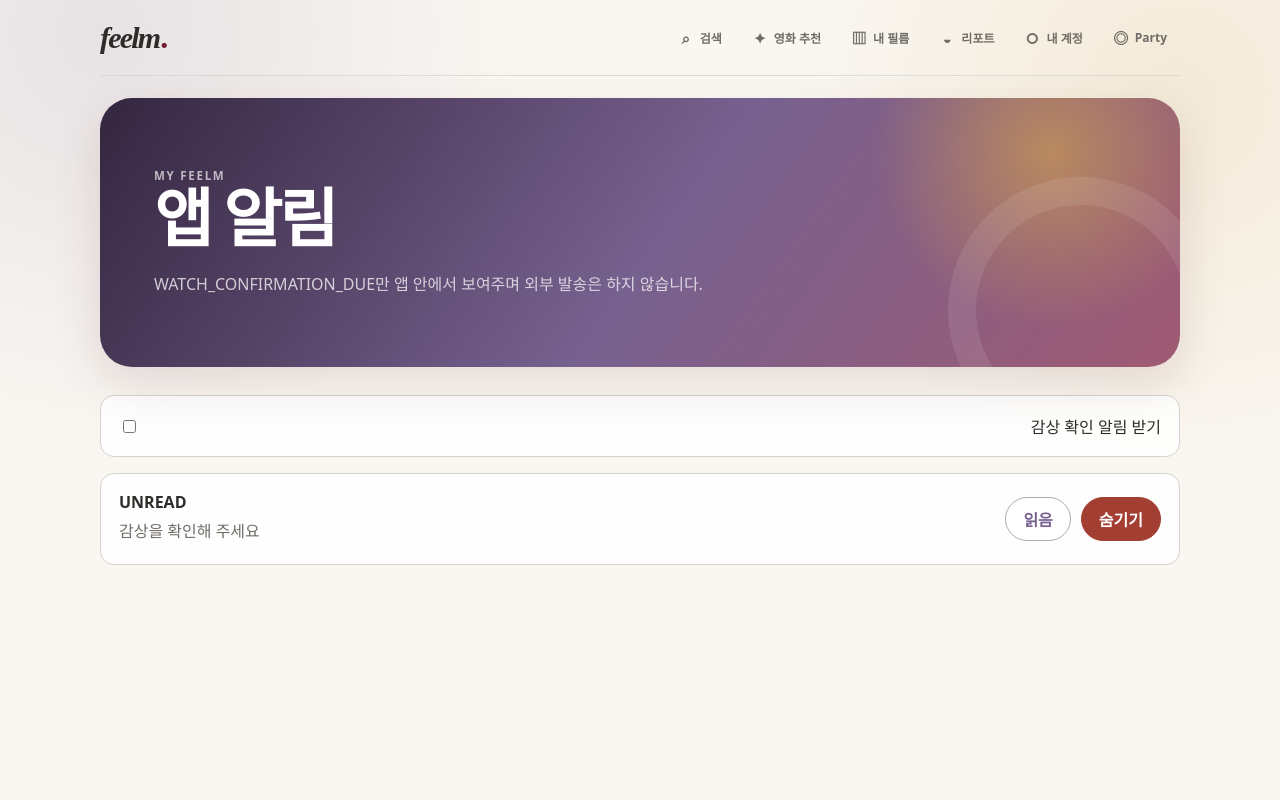
Test: C5 local report/profile vertical › providerless notification opt-in과 read/dismiss를 처리한다
The image size is (1280, 800).
Click the checkbox labelled "감상 확인 알림 받기": (130, 426) [123,420,136,433]
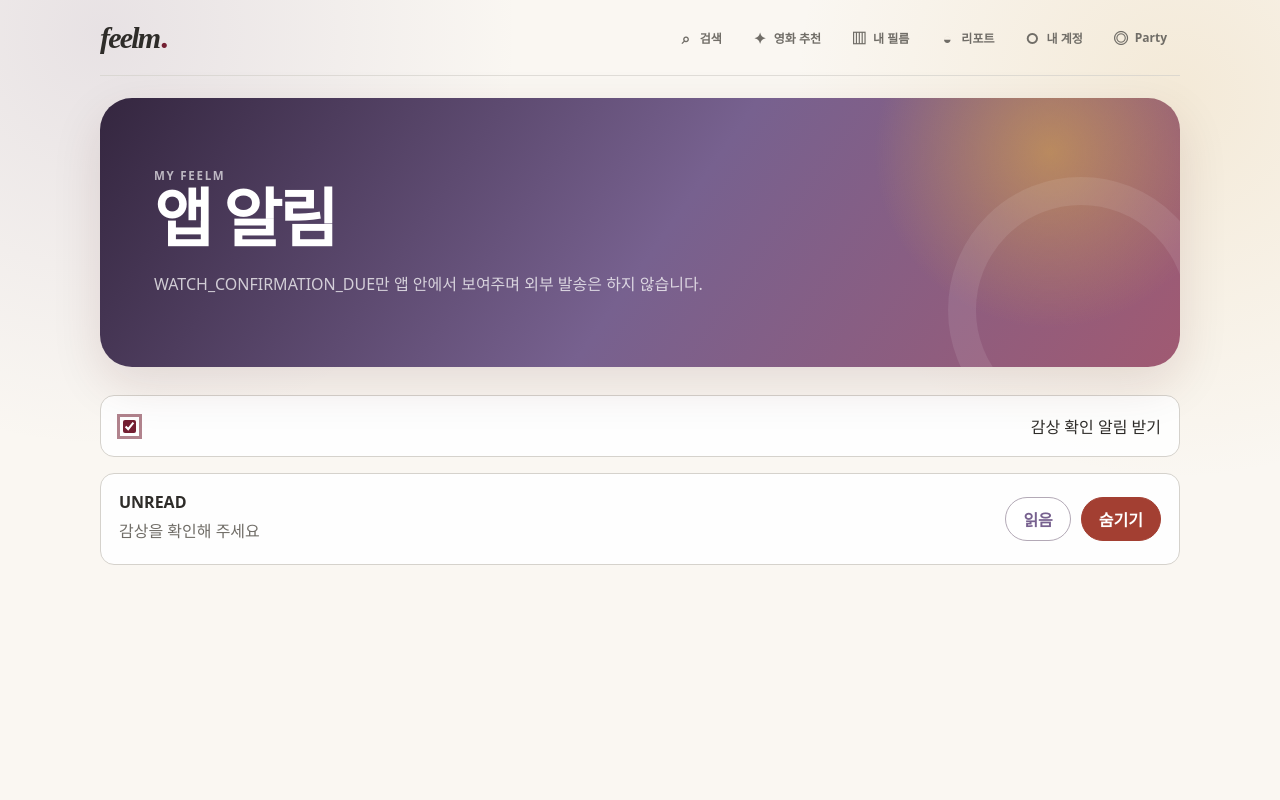
Click the button "읽음": (1038, 519) [1005,497,1071,541]
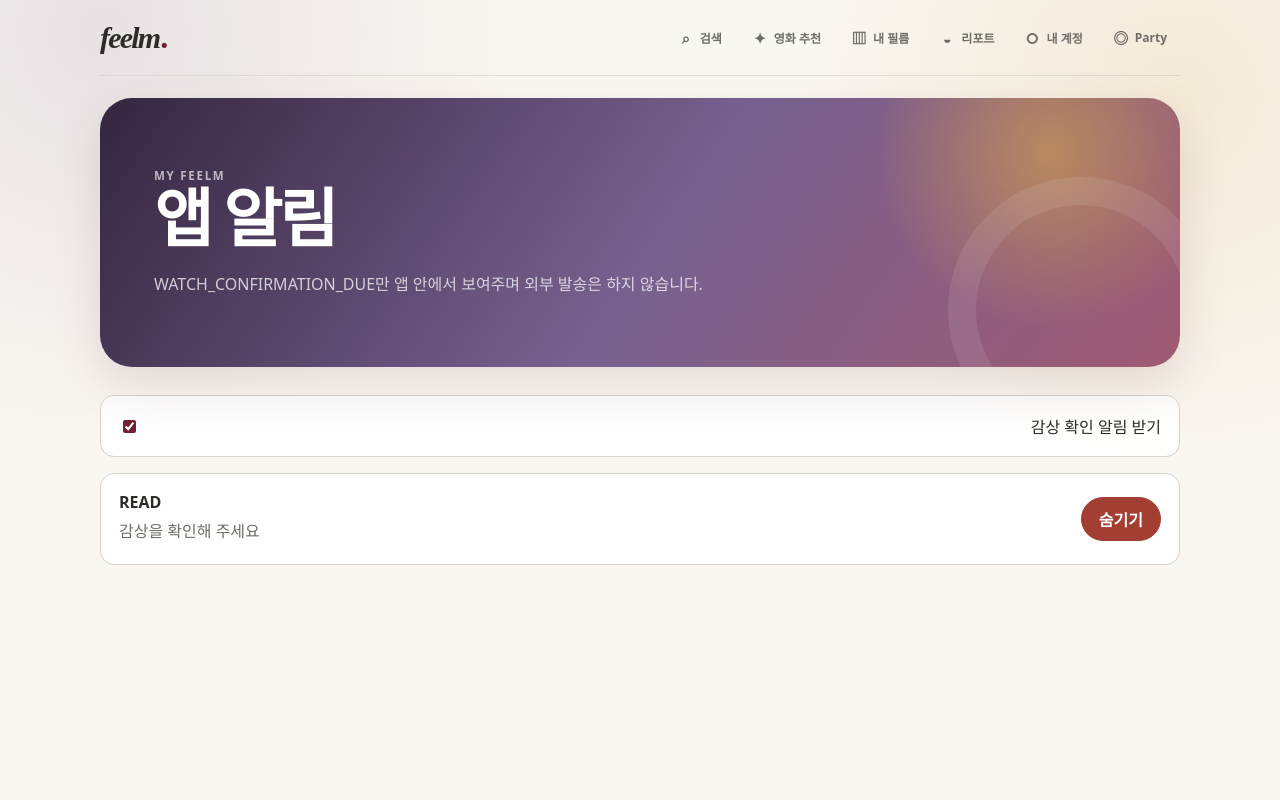
Check: the text "READ" is shown, box [119,491,161,513]
Click the button "숨기기": (1121, 519) [1081,497,1161,541]
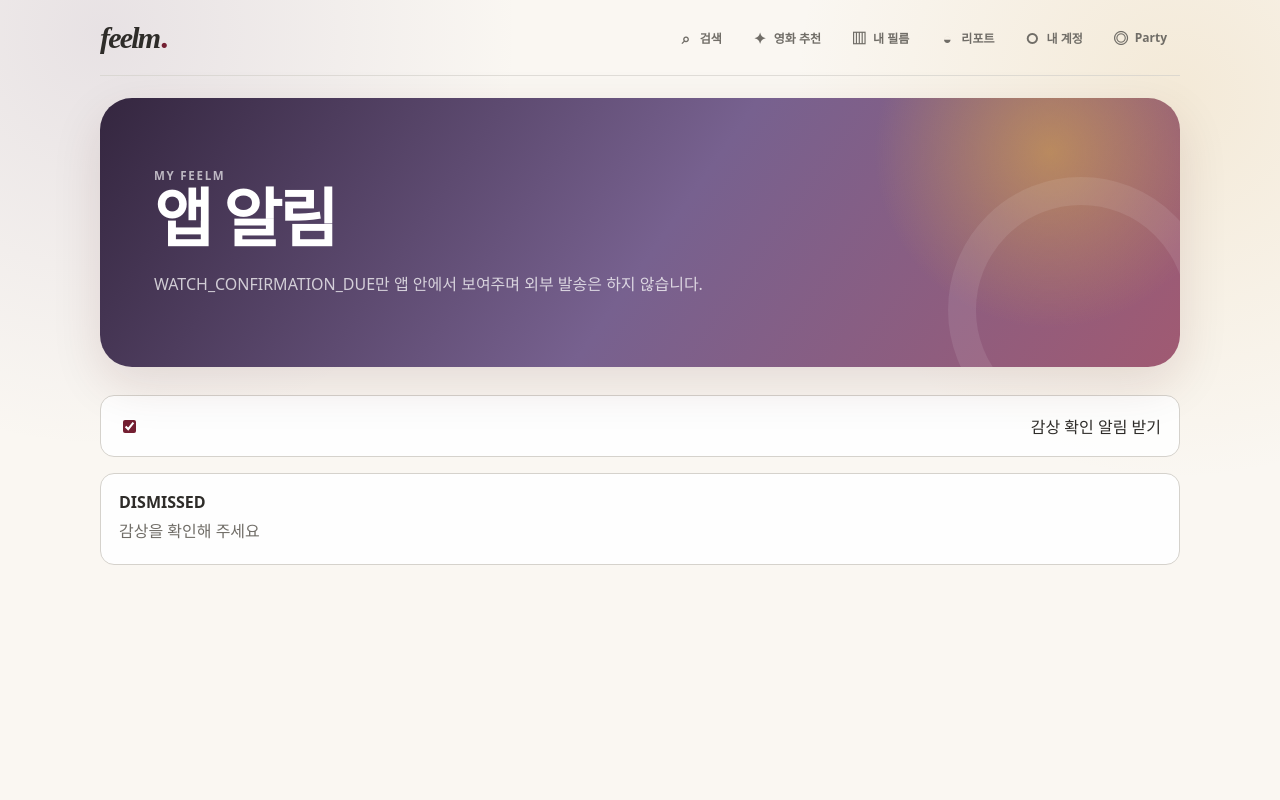
Check: the text "DISMISSED" is shown, box [119,491,206,513]
